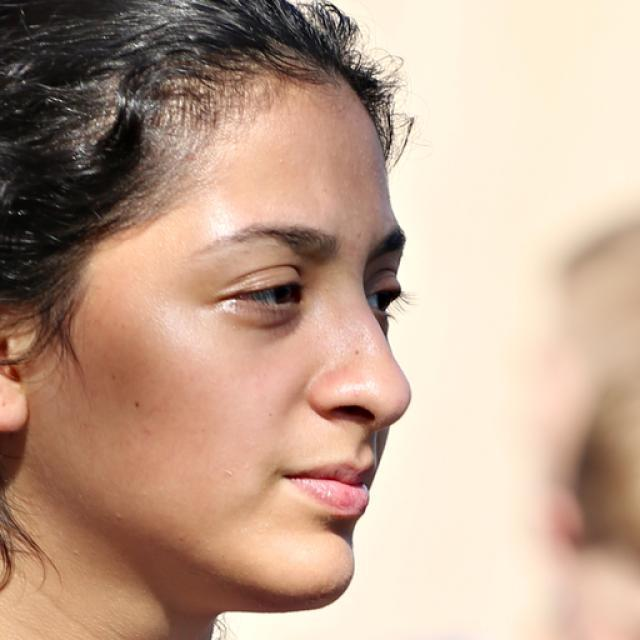neutral: (29, 53, 412, 614)
